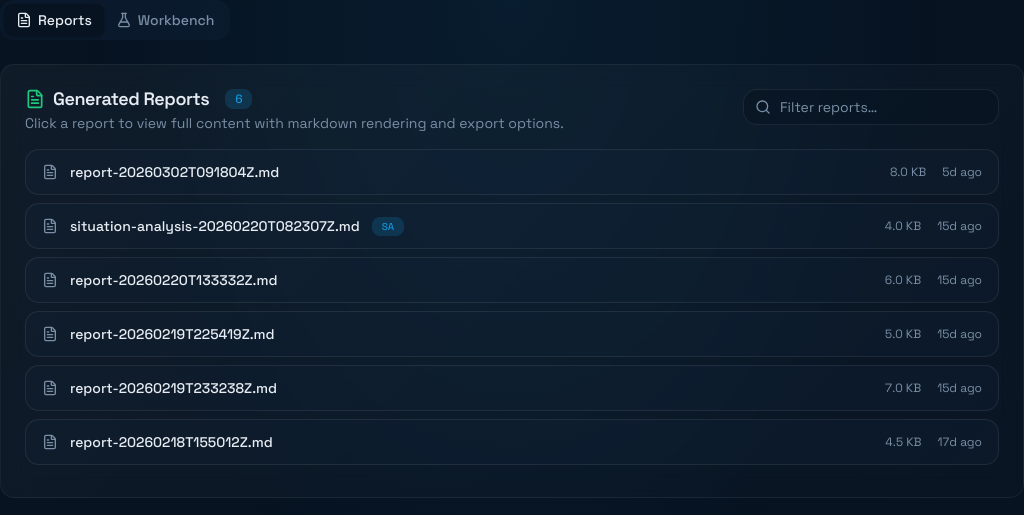
Scenario: ReportsPage › shows no-match message when filter yields zero results
expect the text "report-20260302T091804Z.md" is shown: met, box [70, 162, 279, 182]
Type "nonexistent" into the field with placeholder "Filter reports…" at (871, 107), box [743, 89, 999, 125]
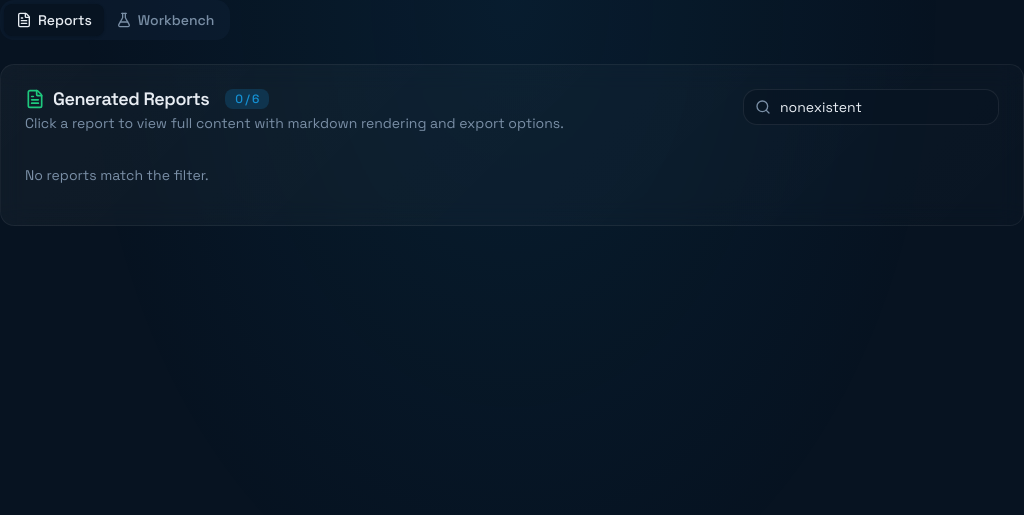
expect the text "No reports match the filter." is shown: met, box [25, 166, 209, 184]
